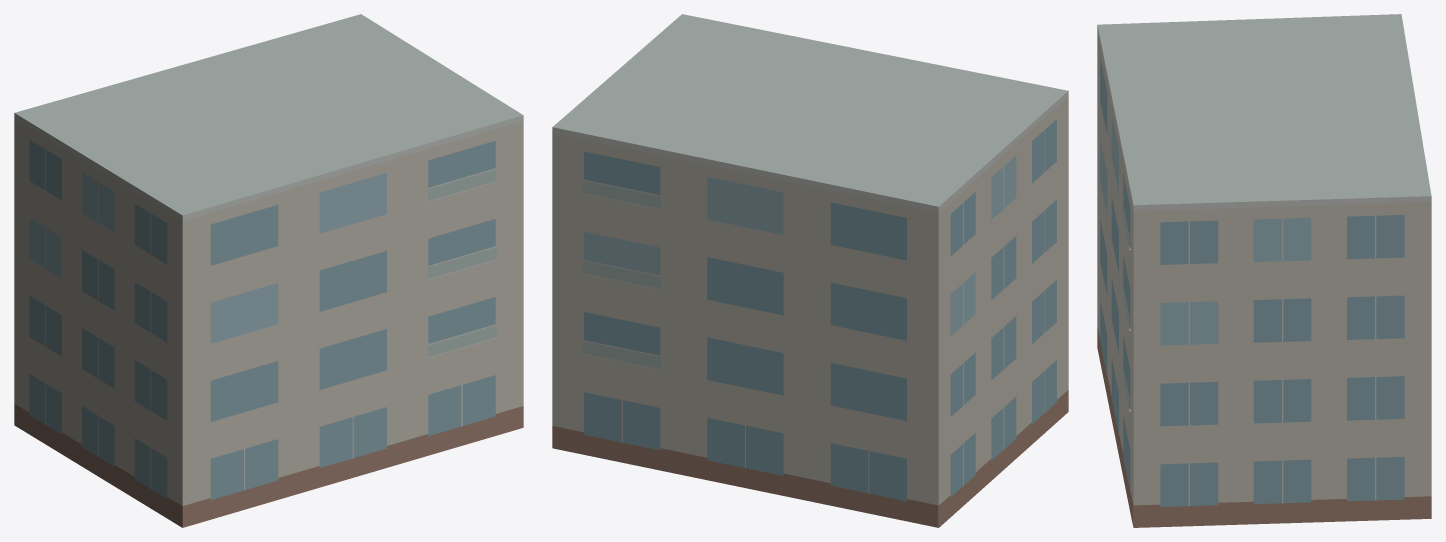
The model's file is survey-upis-32814954.glb.
3 renders of one model, left to right at view 1: azimuth 30°, elevation 25°; view 2: azimuth 150°, elevation 25°; view 3: azimuth 270°, elevation 25°, orthographic. The views are drawn at different scales.
Visible parts, largest first — view 1: survey-upis-32814954.tmp; view 2: survey-upis-32814954.tmp; view 3: survey-upis-32814954.tmp.
Boxes of the visible parts, x1,y1,x2,y2 form: survey-upis-32814954.tmp: (14,14,523,527); survey-upis-32814954.tmp: (552,14,1068,527); survey-upis-32814954.tmp: (1097,14,1431,527).
Bounding box in the file's own units: 17.17 × 13.5 × 12.68.
